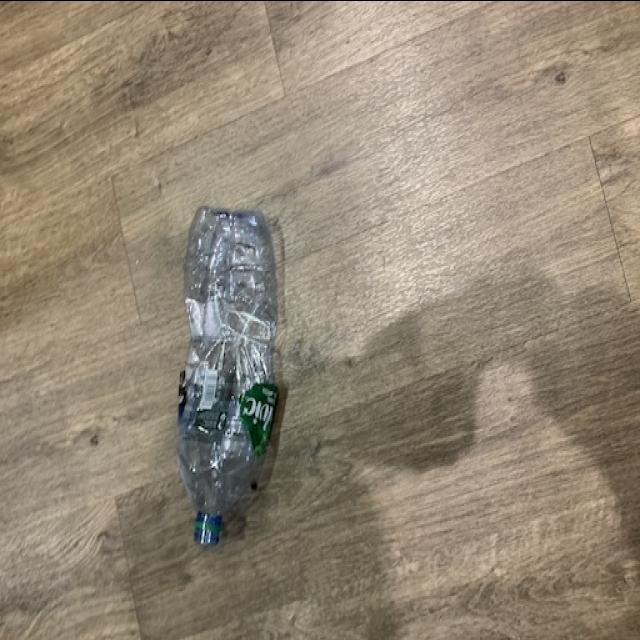PET: (172, 210, 278, 550)
